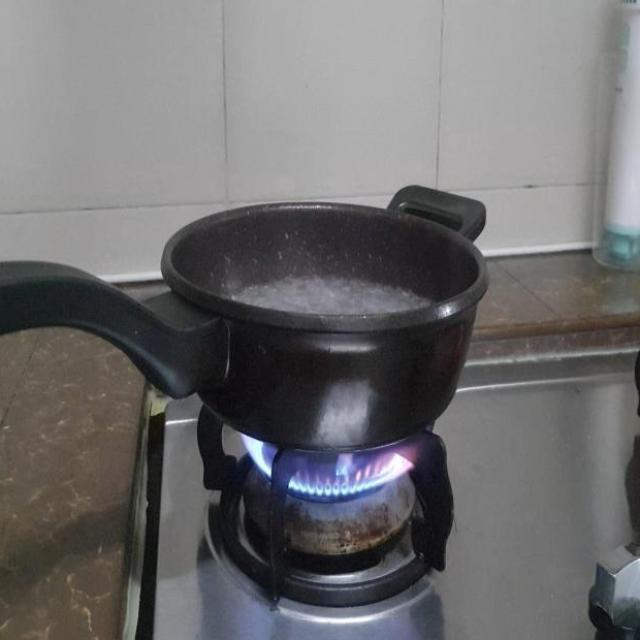smoke: (238, 431, 416, 498)
